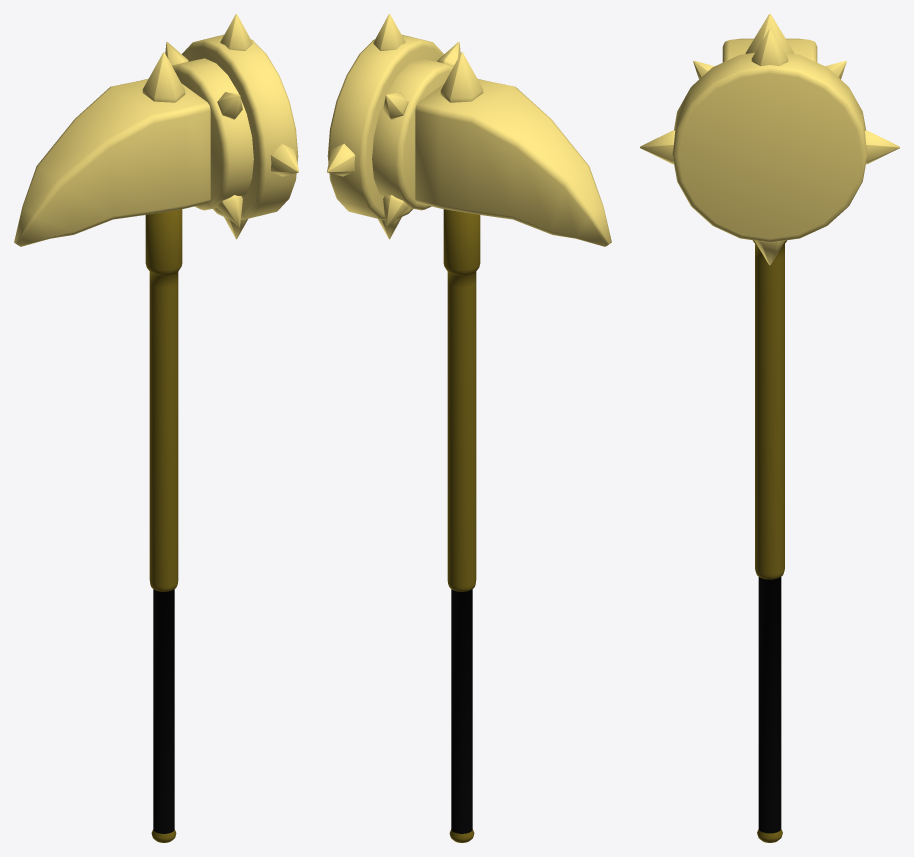
File: TwoHand_Hammer_Gold.fbx
3 renders of one model, left to right at view 1: azimuth 30°, elevation 25°; view 2: azimuth 150°, elevation 25°; view 3: azimuth 270°, elevation 25°, orthographic. The views are drawn at different scales.
Parts seen in each view (by area): view 1: TwoHand_Hammer_Gold; view 2: TwoHand_Hammer_Gold; view 3: TwoHand_Hammer_Gold.
Part boxes in pixels (left/top/right/bottom): TwoHand_Hammer_Gold: left=14, top=14, right=298, bottom=842; TwoHand_Hammer_Gold: left=327, top=14, right=611, bottom=842; TwoHand_Hammer_Gold: left=640, top=14, right=899, bottom=842.
Bounding box in the file's own units: 385 × 1247 × 346.
